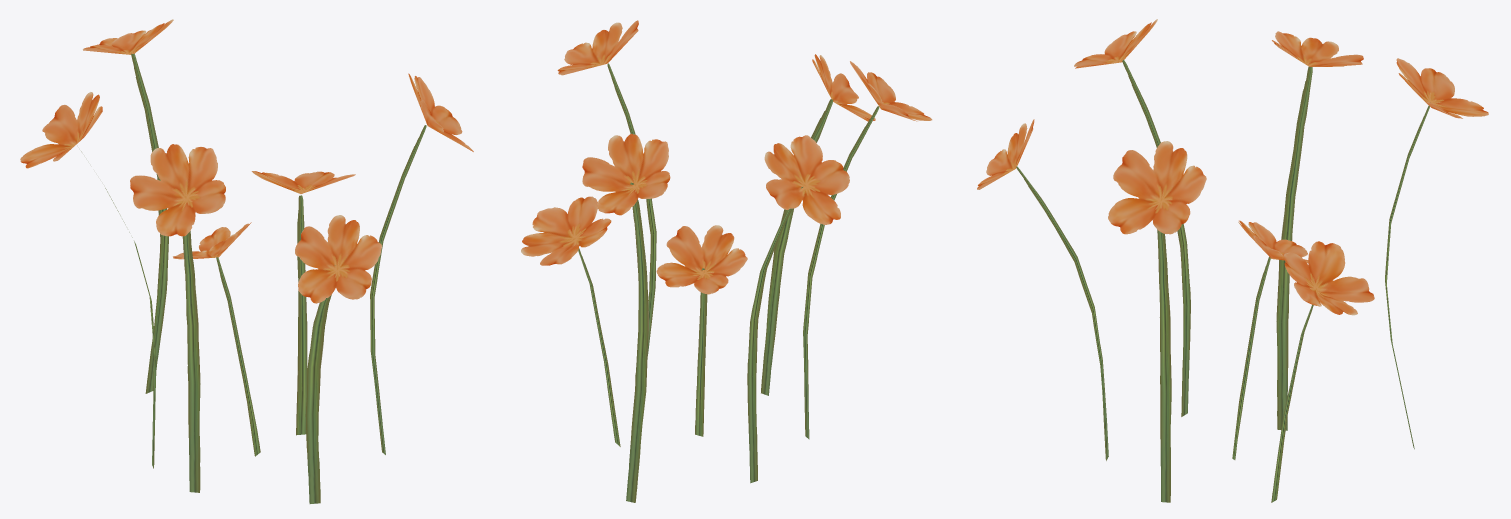
The model's file is SM_Ground_Orange_Flower_A.fbx.
The picture shows the model from 3 angles, left to right: view 1: azimuth 30°, elevation 25°; view 2: azimuth 150°, elevation 25°; view 3: azimuth 270°, elevation 25°; orthographic projection. The views are drawn at different scales.
Parts seen in each view (by area): view 1: SM_Ground_Orange_Flower_A_LOD0; view 2: SM_Ground_Orange_Flower_A_LOD0; view 3: SM_Ground_Orange_Flower_A_LOD0.
Part boxes in pixels (bbox=[...]): SM_Ground_Orange_Flower_A_LOD0: bbox=[20, 19, 473, 503]; SM_Ground_Orange_Flower_A_LOD0: bbox=[521, 20, 932, 502]; SM_Ground_Orange_Flower_A_LOD0: bbox=[977, 19, 1488, 502].
Size of the model in its own units: 36.28 by 42.78 by 35.3.
1 material, 1 textured.
